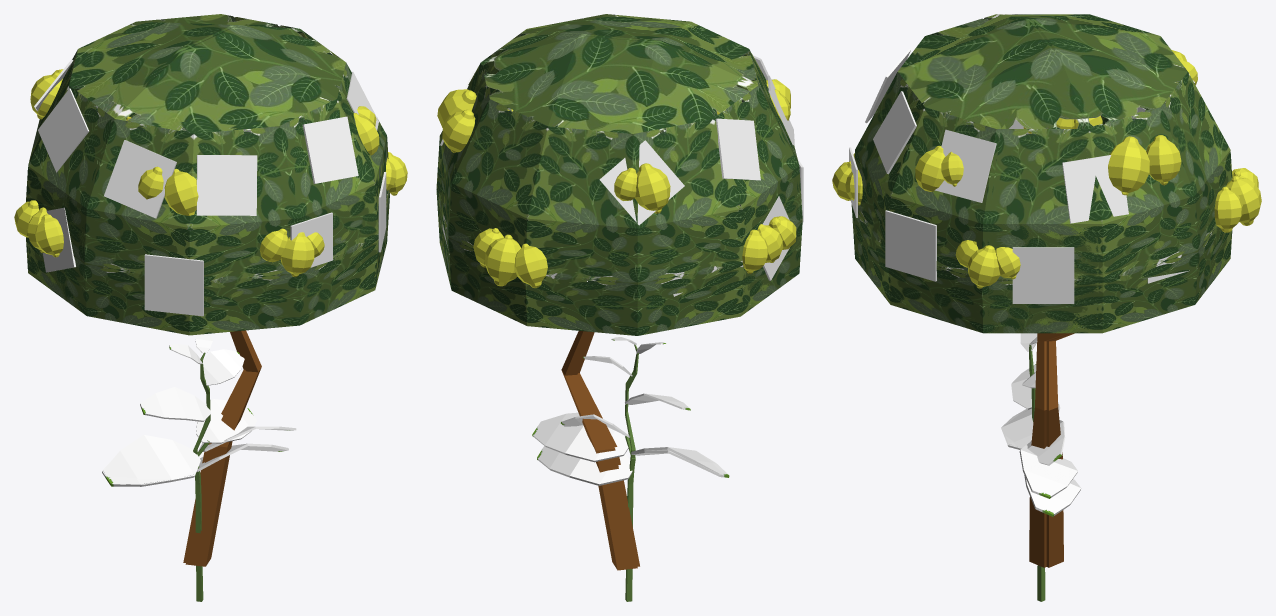
Rendered from Lemon.fbx.
3 renders of one model, left to right at view 1: azimuth 30°, elevation 25°; view 2: azimuth 150°, elevation 25°; view 3: azimuth 270°, elevation 25°, orthographic.
Parts seen in each view (by area): view 1: AdultFL, AdultL, AdultFruitL, TeenL, BBL; view 2: AdultFruitL, AdultL, AdultFL, TeenL, BBL; view 3: AdultFL, AdultFruitL, AdultL, TeenL, BBL.
Part boxes in pixels (x1,y1,x2,y2): AdultFL: [28, 17, 389, 566]; AdultL: [26, 14, 386, 562]; AdultFruitL: [14, 49, 407, 313]; TeenL: [103, 333, 288, 601]; BBL: [102, 426, 296, 530]; AdultFruitL: [436, 33, 799, 570]; AdultL: [438, 27, 800, 316]; AdultFL: [439, 14, 803, 566]; TeenL: [537, 337, 728, 601]; BBL: [532, 412, 729, 506]; AdultFL: [849, 14, 1213, 567]; AdultFruitL: [832, 14, 1261, 567]; AdultL: [859, 14, 1229, 567]; TeenL: [1001, 333, 1081, 601]; BBL: [1002, 406, 1077, 498].
Bounding box in the file's own units: 178 × 279 × 191.
